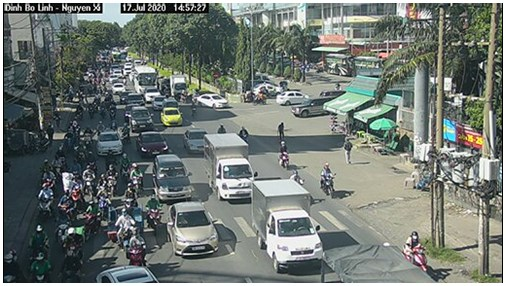di_bo: (342, 136, 356, 165)
xe_buyt: (132, 66, 159, 94)
xe_hoi: (166, 201, 222, 258), (151, 154, 196, 203), (136, 130, 171, 160), (129, 105, 154, 133), (291, 97, 324, 118), (96, 129, 121, 156), (183, 126, 205, 156), (196, 92, 229, 110), (160, 106, 183, 129), (274, 90, 308, 105)
xe_may: (54, 223, 88, 266), (404, 230, 434, 276), (125, 228, 147, 267), (145, 195, 165, 237), (35, 182, 56, 222), (28, 252, 55, 282), (3, 248, 26, 283), (26, 223, 52, 253), (319, 161, 338, 198), (80, 201, 98, 235), (129, 162, 144, 193), (277, 140, 292, 169), (122, 182, 139, 207), (38, 167, 57, 189), (118, 151, 131, 181), (95, 172, 110, 190), (68, 157, 81, 177), (239, 125, 252, 144), (85, 150, 96, 171), (104, 102, 117, 119), (121, 124, 131, 146), (86, 101, 95, 118)
xe_tai: (250, 179, 325, 273), (204, 132, 252, 201)
